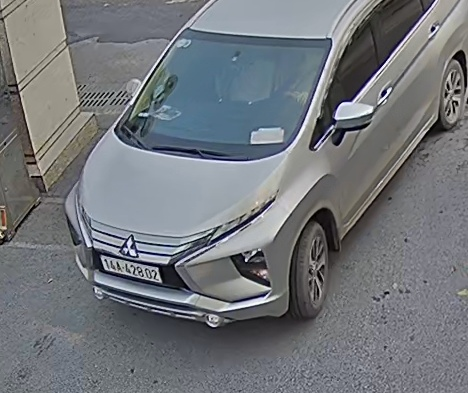vehicle plate: (93, 251, 166, 288)
